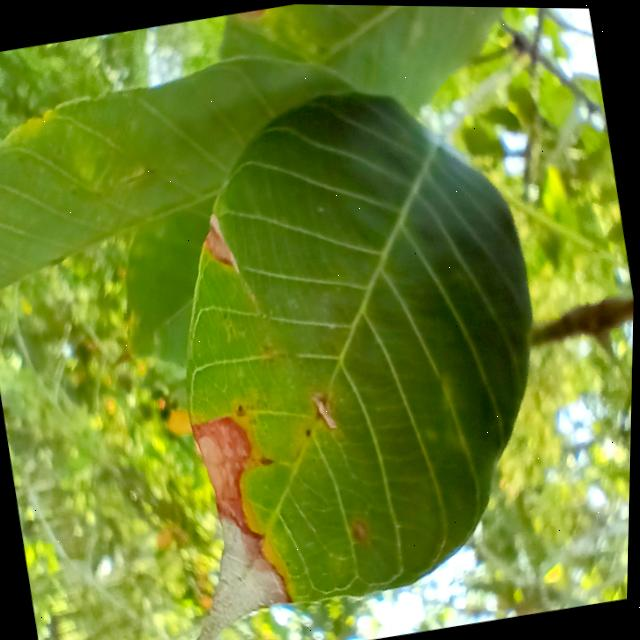Colletotrichum: (306, 428, 312, 436)
Leaf-Blight: (154, 411, 300, 640), (199, 209, 240, 274)
